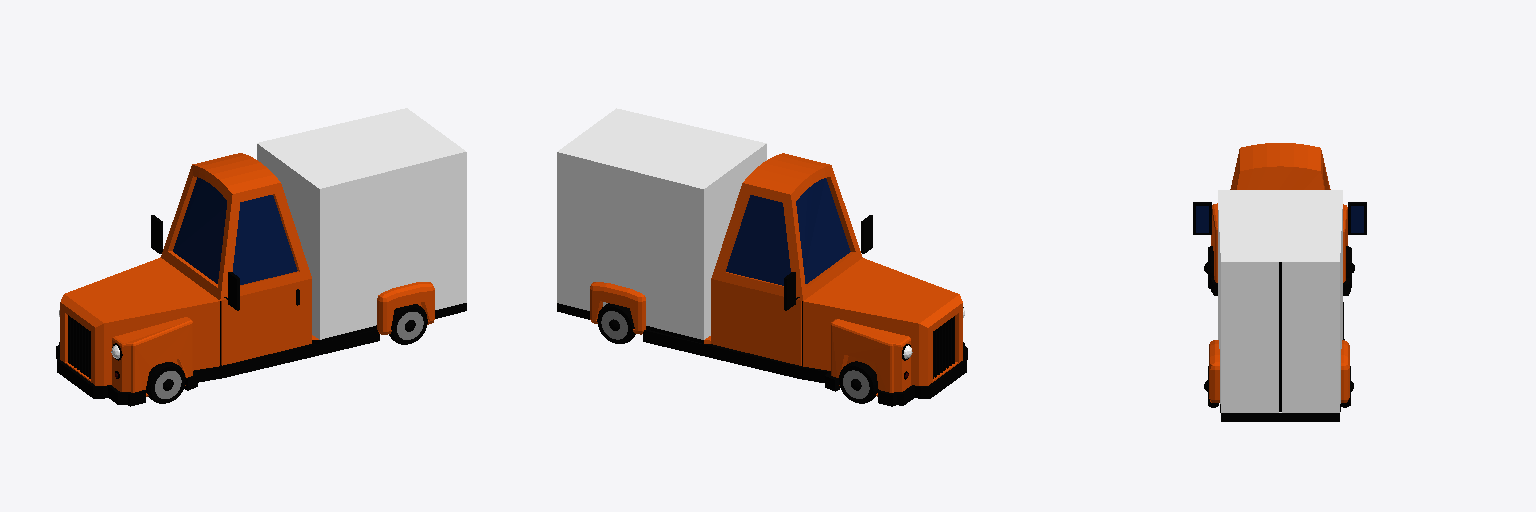
Rendered from Truck.obj.
3 renders of one model, left to right at view 1: azimuth 30°, elevation 25°; view 2: azimuth 150°, elevation 25°; view 3: azimuth 270°, elevation 25°, orthographic.
Visible parts, largest first — view 1: Truck; view 2: Truck; view 3: Truck.
Part boxes in pixels (left/top/right/bottom): Truck: left=56, top=108, right=466, bottom=406; Truck: left=557, top=108, right=967, bottom=406; Truck: left=1193, top=143, right=1366, bottom=421.
Size of the model in its own units: 21.41 by 10.41 by 8.88.